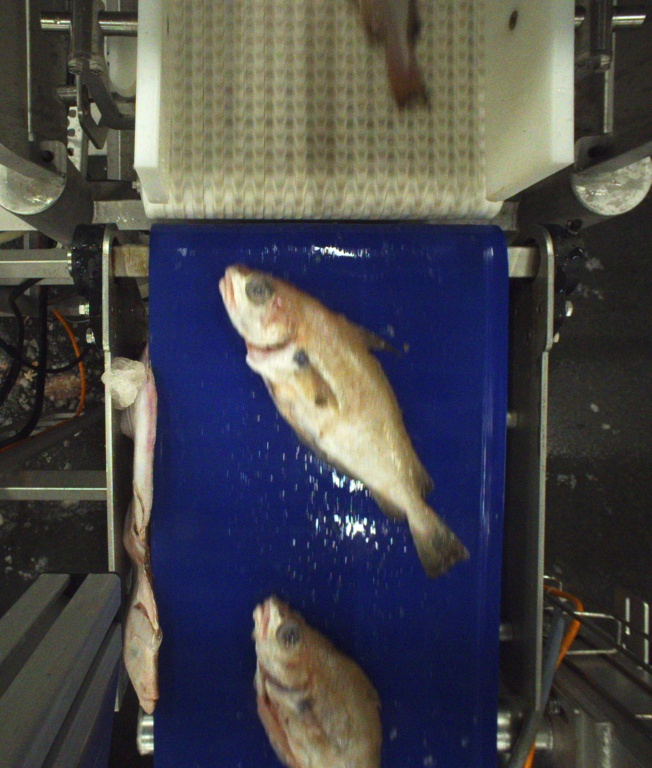BIB: (247, 597, 391, 768)
